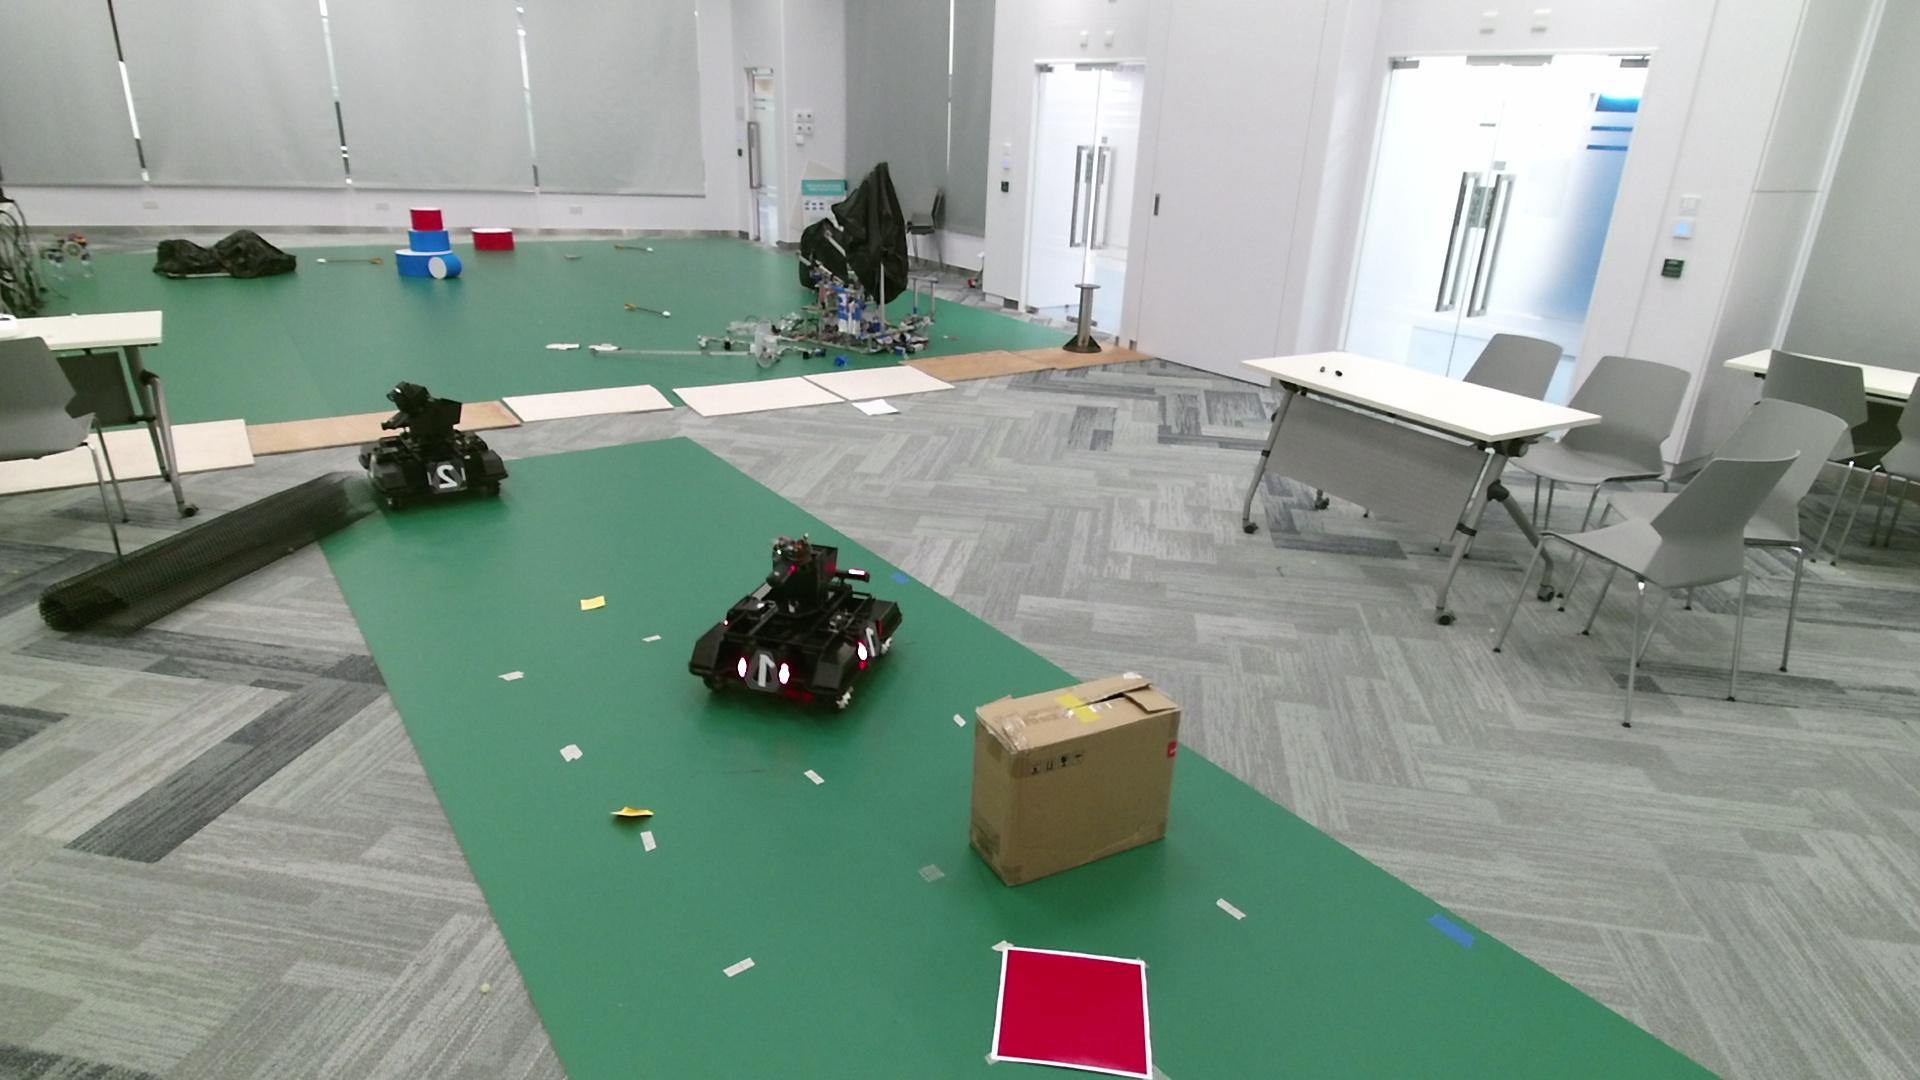robot: (688, 531, 903, 709), (359, 380, 509, 506)
